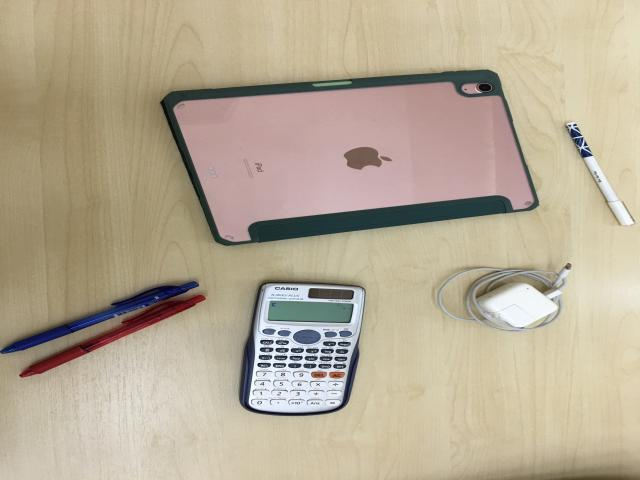Pen: (1, 282, 204, 378), (566, 121, 639, 227)
wire: (433, 263, 573, 335)
